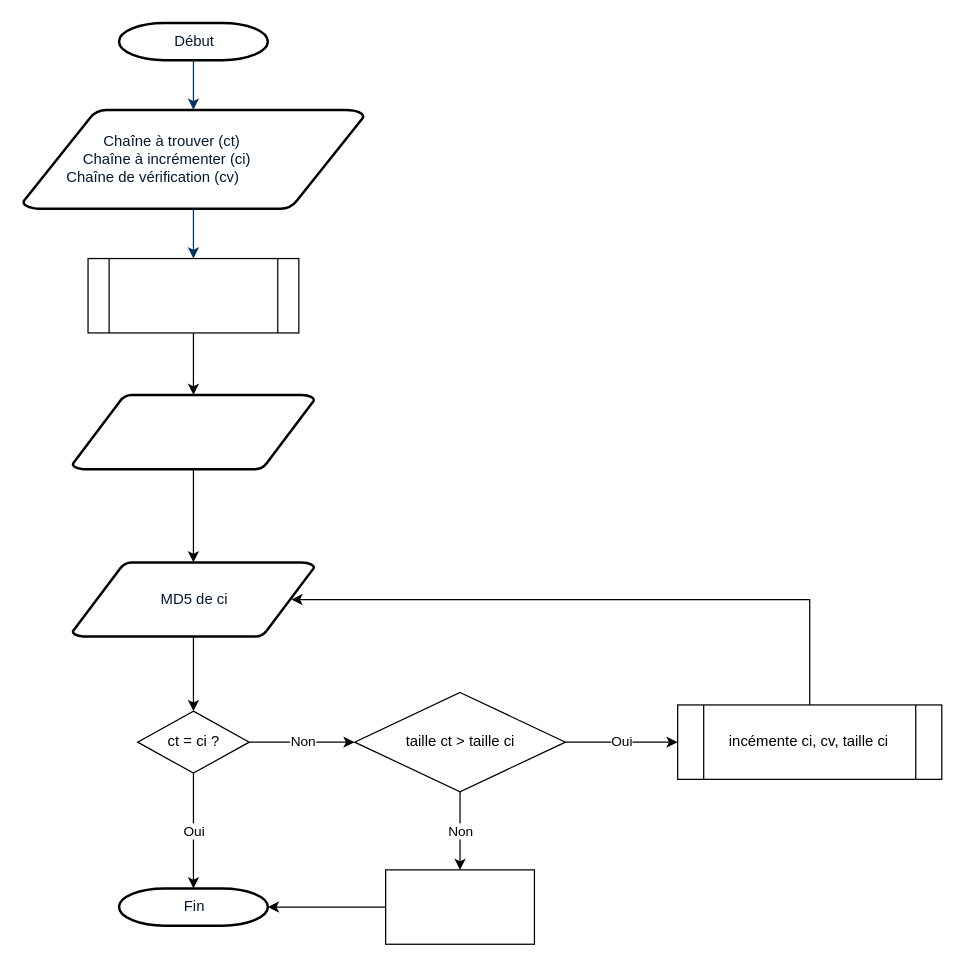
Image size: 963x966. Some labels were removed from this diagram. Here are the shapes that lost their labels. From the top down, the box of each, then its label:
(87, 257, 299, 333): Fonction hash
(71, 393, 315, 470): MD5 de ct
(384, 869, 534, 944): Erreur
